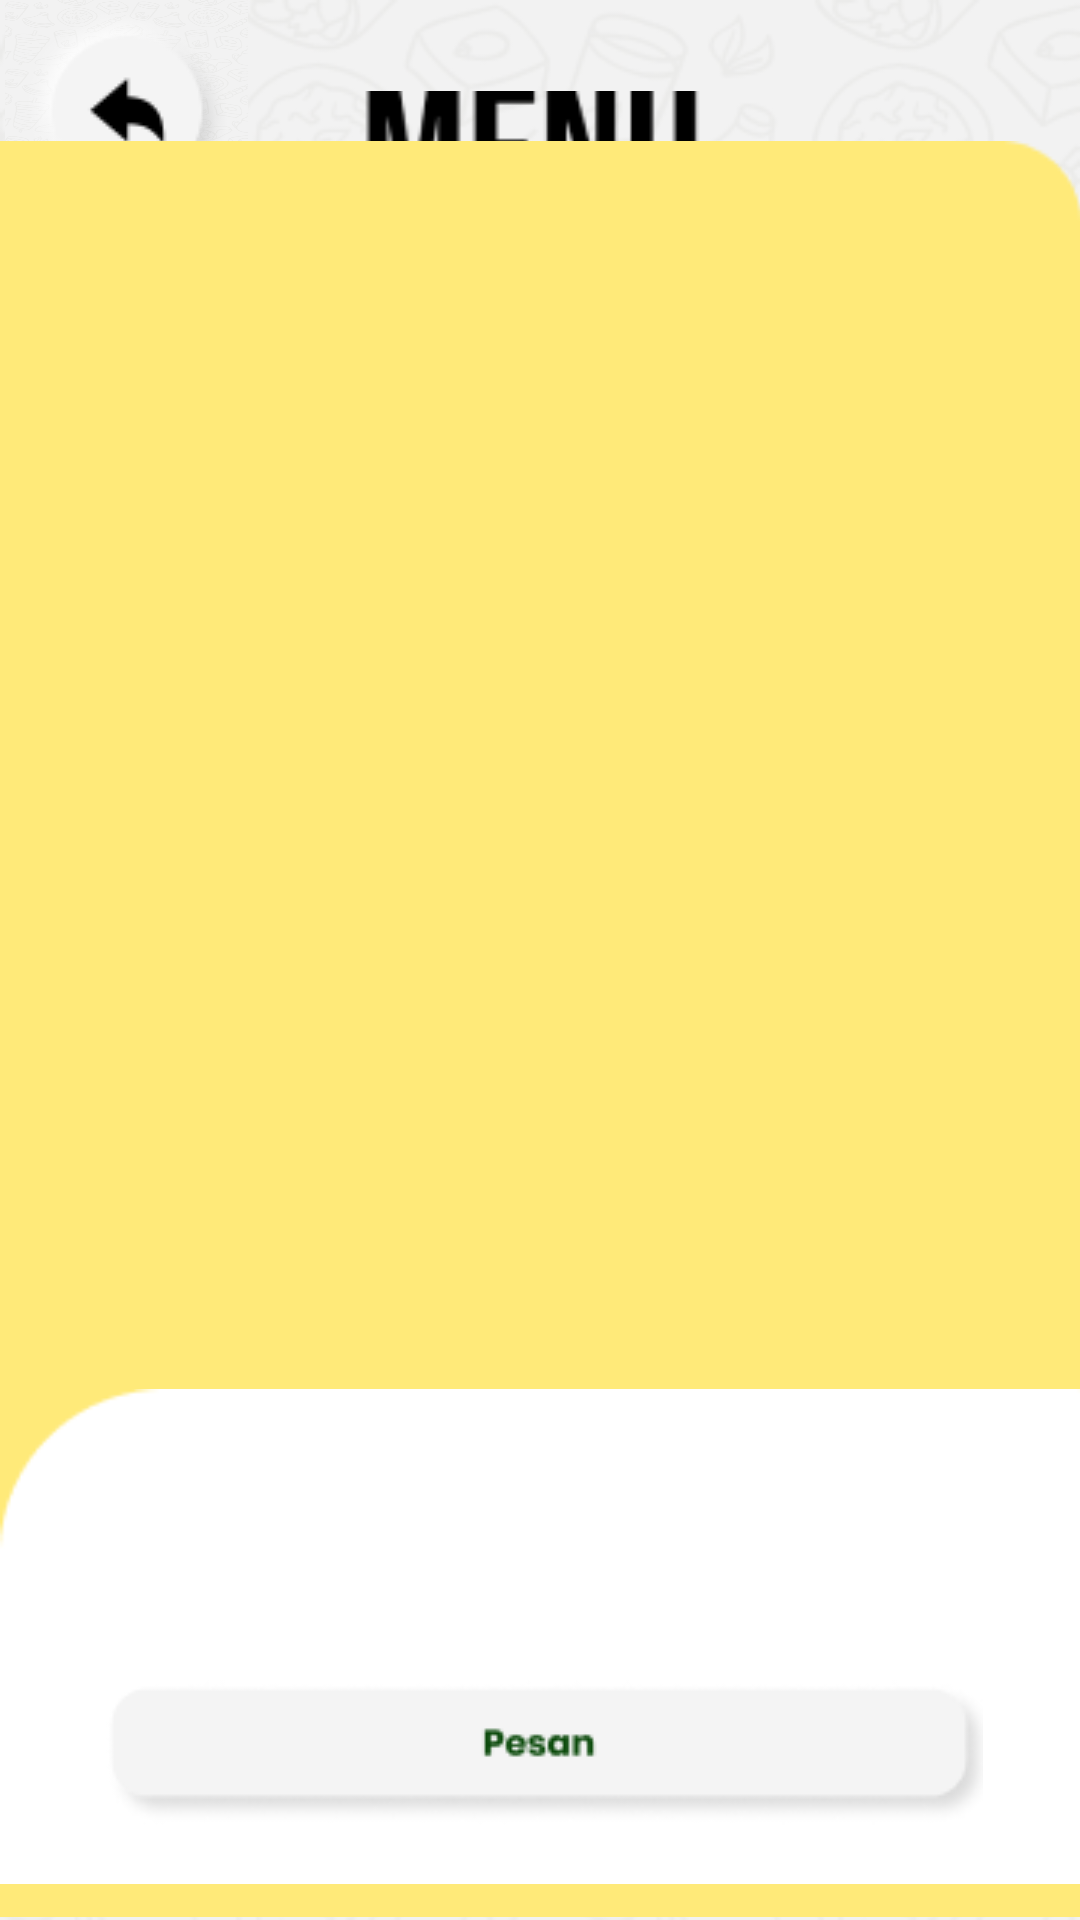

Icon click points for this 1080x1920 phone screenshot, format (x,y):
buttonkembali: (126,70)
